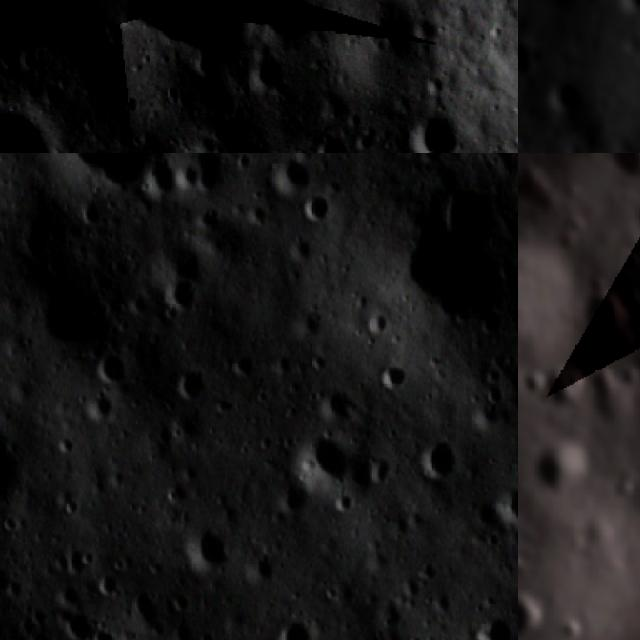crater: (101, 0, 278, 68), (532, 442, 598, 497), (523, 364, 583, 415), (298, 424, 338, 498), (402, 108, 467, 153), (371, 2, 422, 59), (574, 290, 626, 343), (61, 153, 164, 179), (0, 107, 58, 153), (257, 0, 315, 46), (182, 529, 232, 572), (546, 75, 588, 119), (245, 55, 283, 98), (266, 153, 306, 193), (478, 489, 518, 529), (422, 436, 458, 479), (518, 27, 545, 84), (296, 195, 338, 226), (603, 153, 640, 185), (607, 328, 640, 359), (174, 369, 201, 406), (88, 570, 114, 604), (308, 132, 348, 153), (375, 369, 403, 398), (616, 280, 640, 313), (83, 398, 117, 420), (63, 612, 89, 640), (101, 354, 125, 384), (363, 310, 388, 338), (481, 616, 510, 640), (290, 238, 314, 266), (556, 616, 584, 640), (170, 284, 191, 314), (619, 0, 640, 26), (58, 495, 79, 517), (630, 193, 640, 237), (306, 352, 326, 373), (284, 623, 307, 640), (54, 438, 74, 457), (482, 385, 502, 403), (90, 629, 118, 640), (0, 516, 15, 536), (29, 623, 44, 640)
